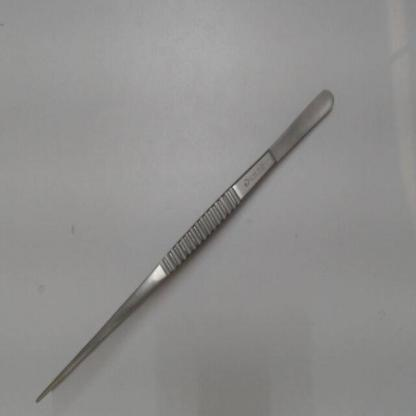DeBakey Dissector: (27, 74, 354, 411)
